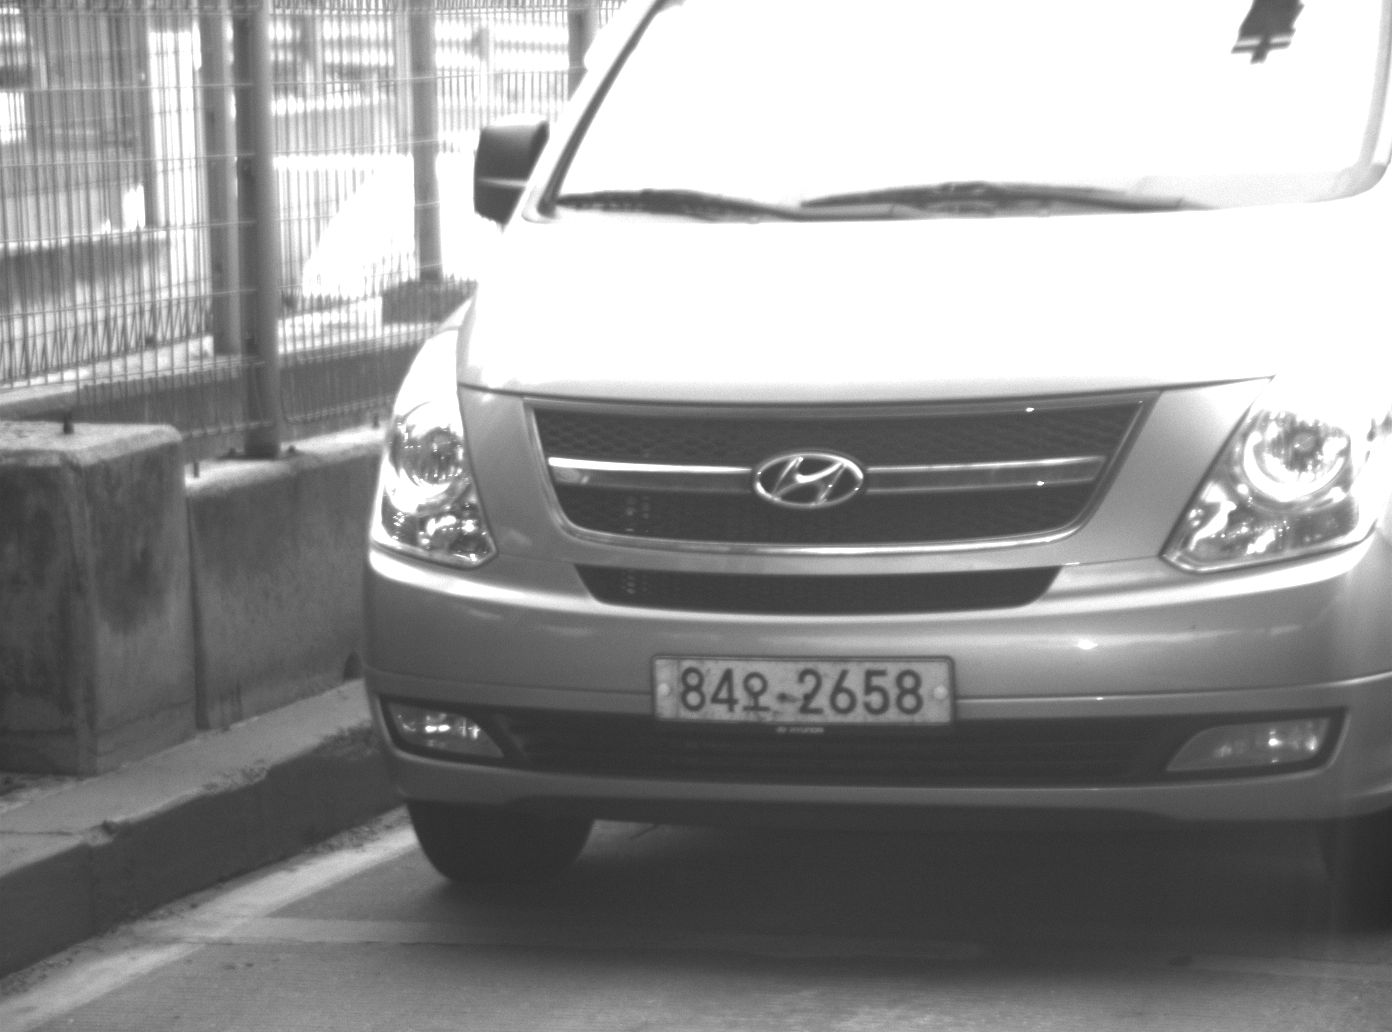car: (355, 1, 1387, 930)
plate: (650, 656, 960, 727)
